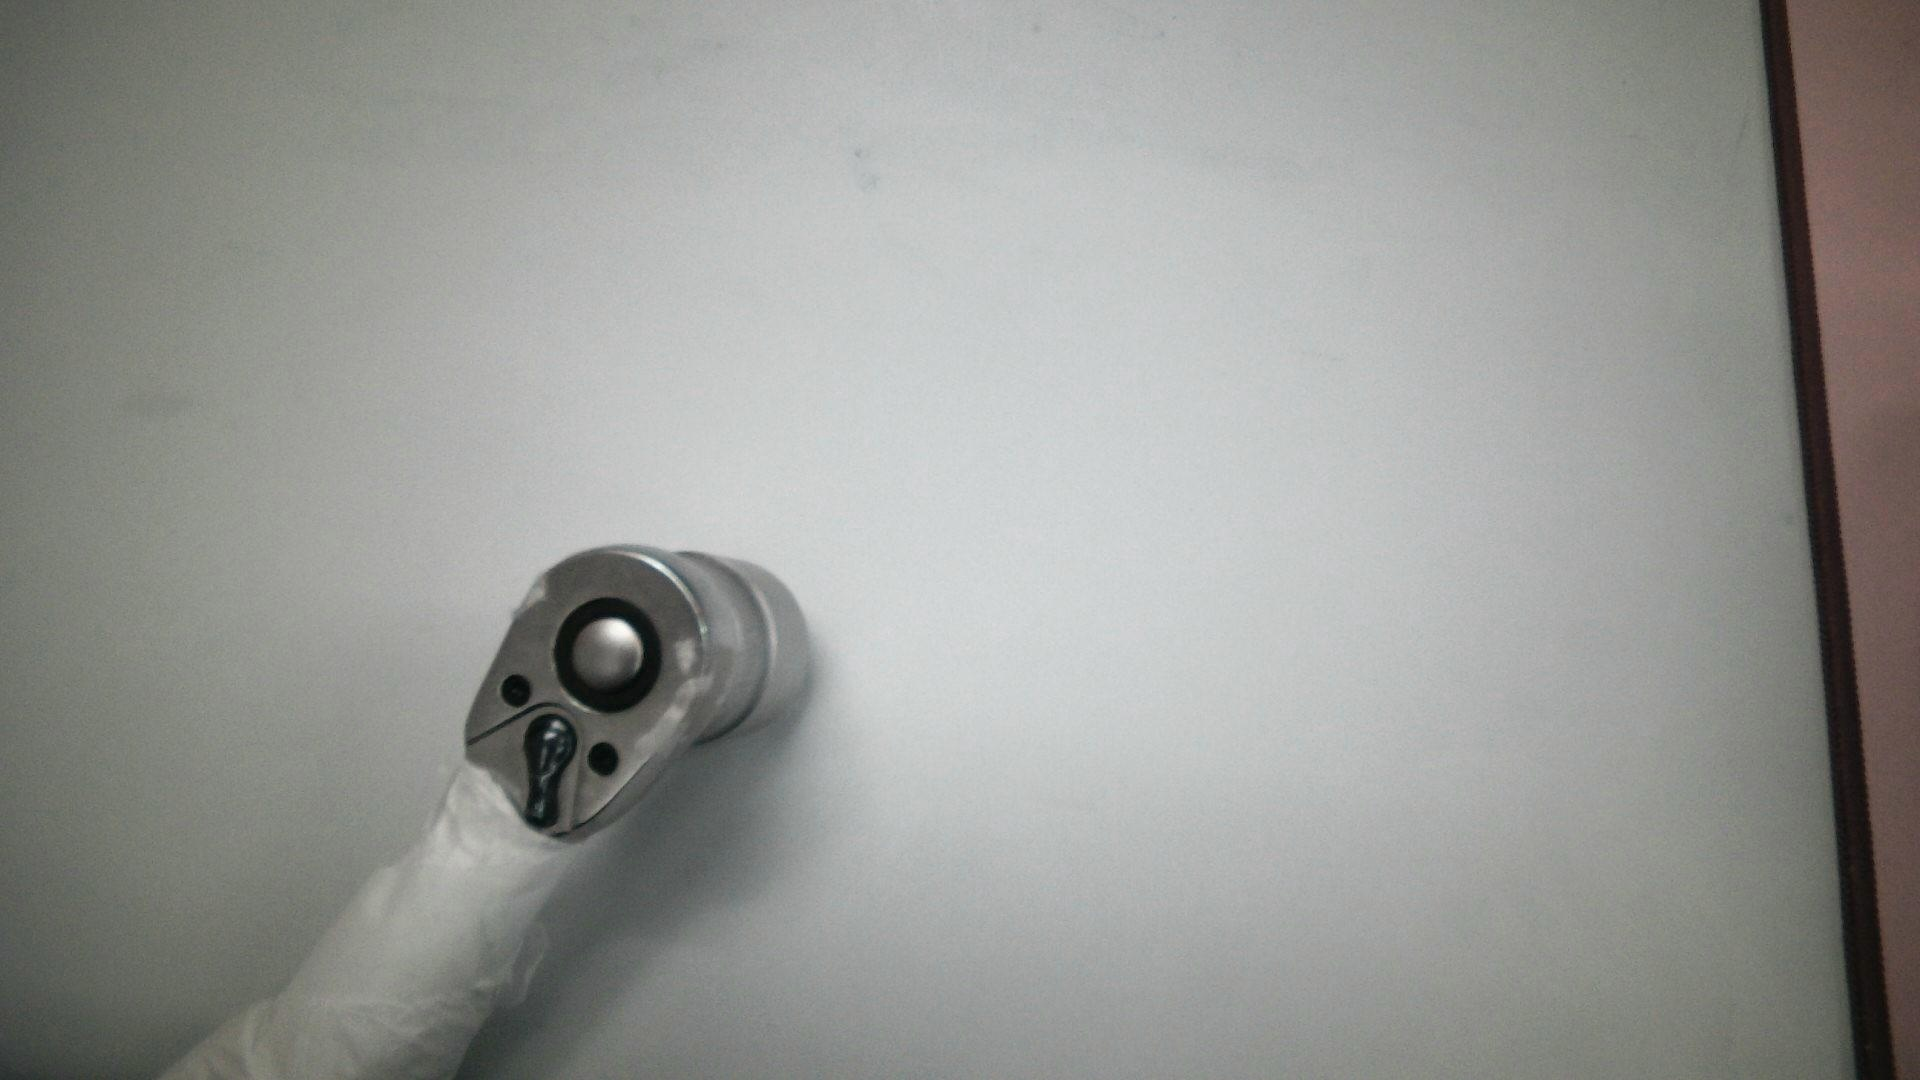wrench: (550, 593, 655, 716)
